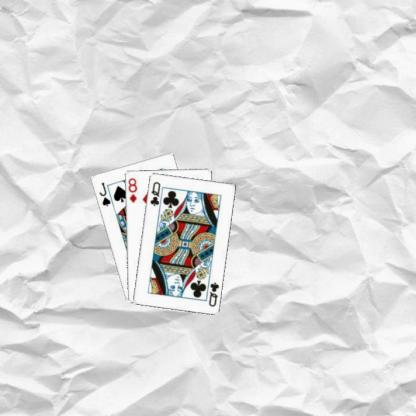8D: (126, 175, 138, 204)
JS: (96, 180, 112, 207)
QC: (147, 179, 161, 207), (206, 280, 220, 308)
